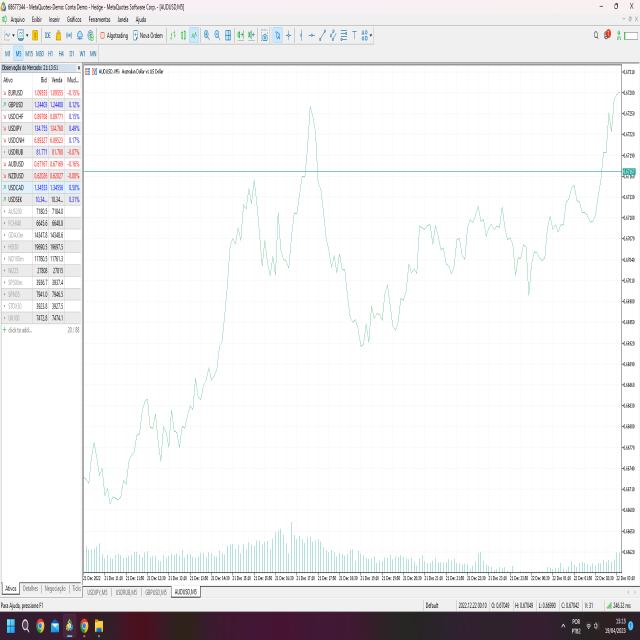oco_inv: (504, 196, 551, 305)
topo_duplo: (214, 72, 362, 426)
